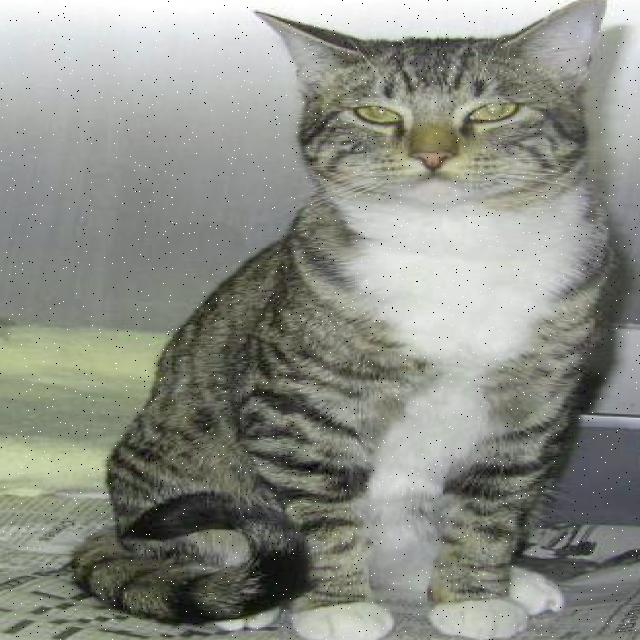Cat: (248, 0, 624, 222)
